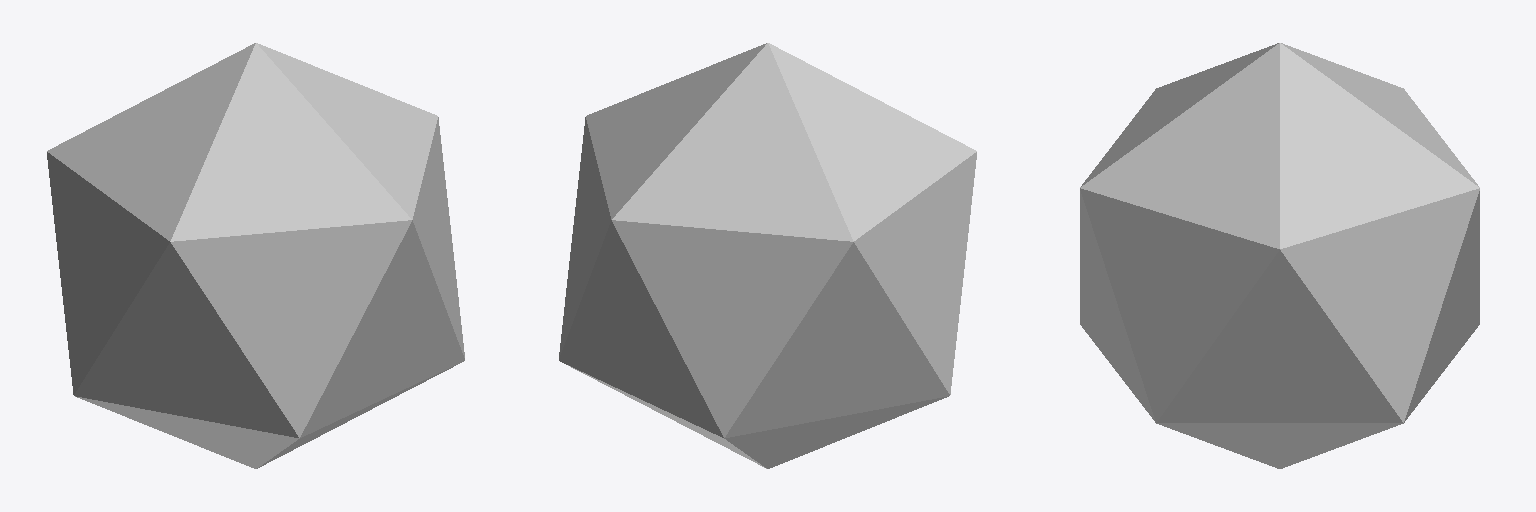
File: snowflake.obj
The picture shows the model from 3 angles: view 1: azimuth 30°, elevation 25°; view 2: azimuth 150°, elevation 25°; view 3: azimuth 270°, elevation 25°; orthographic projection.
Parts seen in each view (by area): view 1: Icosphere; view 2: Icosphere; view 3: Icosphere.
Part boxes in pixels (bbox=[...]): Icosphere: bbox=[47, 43, 464, 468]; Icosphere: bbox=[559, 43, 976, 468]; Icosphere: bbox=[1080, 43, 1479, 468].
Bounding box in the file's own units: 0.0894 × 0.1 × 0.0851.